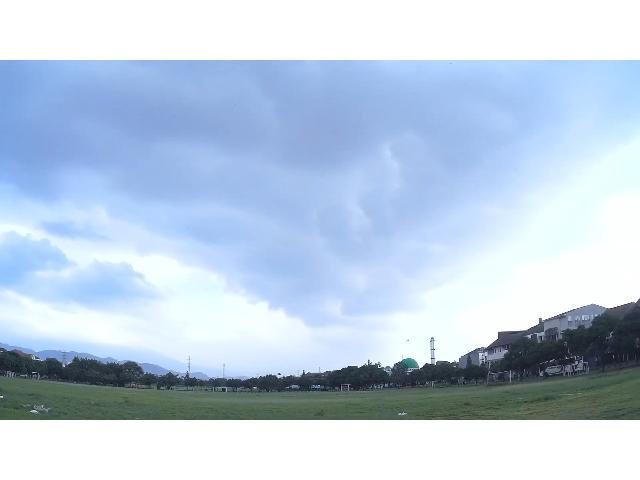Anti-Drone: (392, 329, 420, 349)
